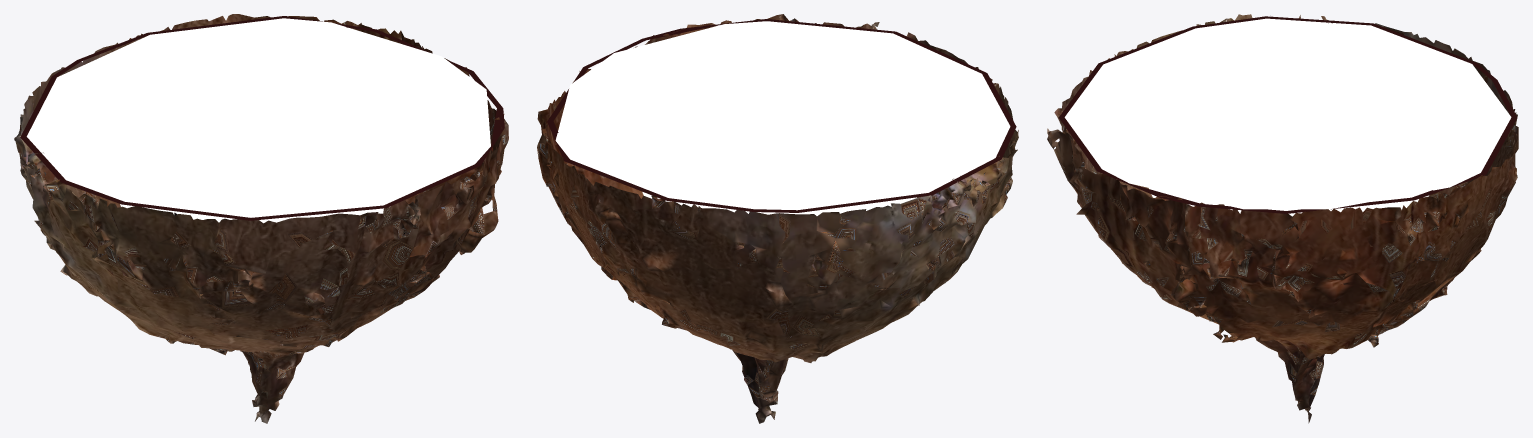
The model's file is realcoconuthalf.glb.
The picture shows the model from 3 angles, left to right: view 1: azimuth 30°, elevation 25°; view 2: azimuth 150°, elevation 25°; view 3: azimuth 270°, elevation 25°; orthographic projection. The views are drawn at different scales.
Visible parts, largest first — view 1: Object_2, Object_5, Object_4; view 2: Object_2, Object_5, Object_4; view 3: Object_2, Object_5, Object_4.
Boxes of the visible parts, x1,y1,x2,y2 form: Object_2: (26, 18, 490, 223); Object_5: (14, 14, 508, 423); Object_4: (20, 16, 504, 220); Object_2: (555, 21, 1010, 215); Object_5: (537, 14, 1018, 423); Object_4: (547, 19, 1016, 212); Object_2: (1064, 18, 1511, 216); Object_5: (1047, 14, 1518, 423); Object_4: (1058, 16, 1517, 213).
Bounding box in the file's own units: 0.13 × 0.0916 × 0.1286.
Materials: 3 (1 with a texture image).
